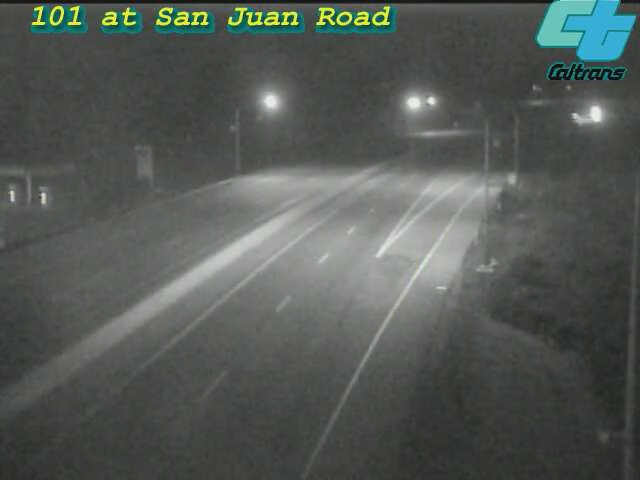vehicle: (552, 96, 602, 146), (569, 89, 619, 139)
